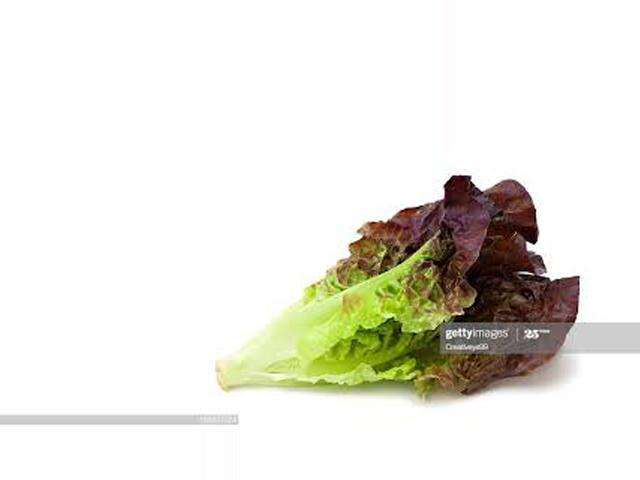lettuce: (200, 171, 586, 412)
